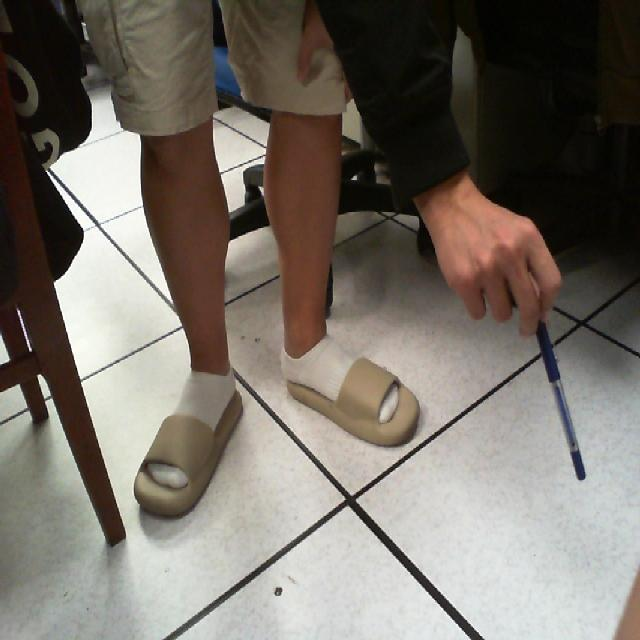Pen: (522, 295, 598, 505)
